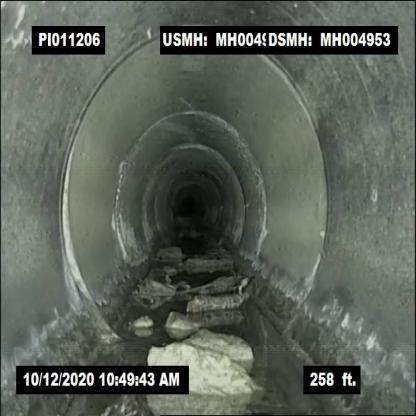Joint_offset: (59, 214, 108, 344)
Obstacle: (145, 328, 261, 395), (184, 280, 255, 314)
